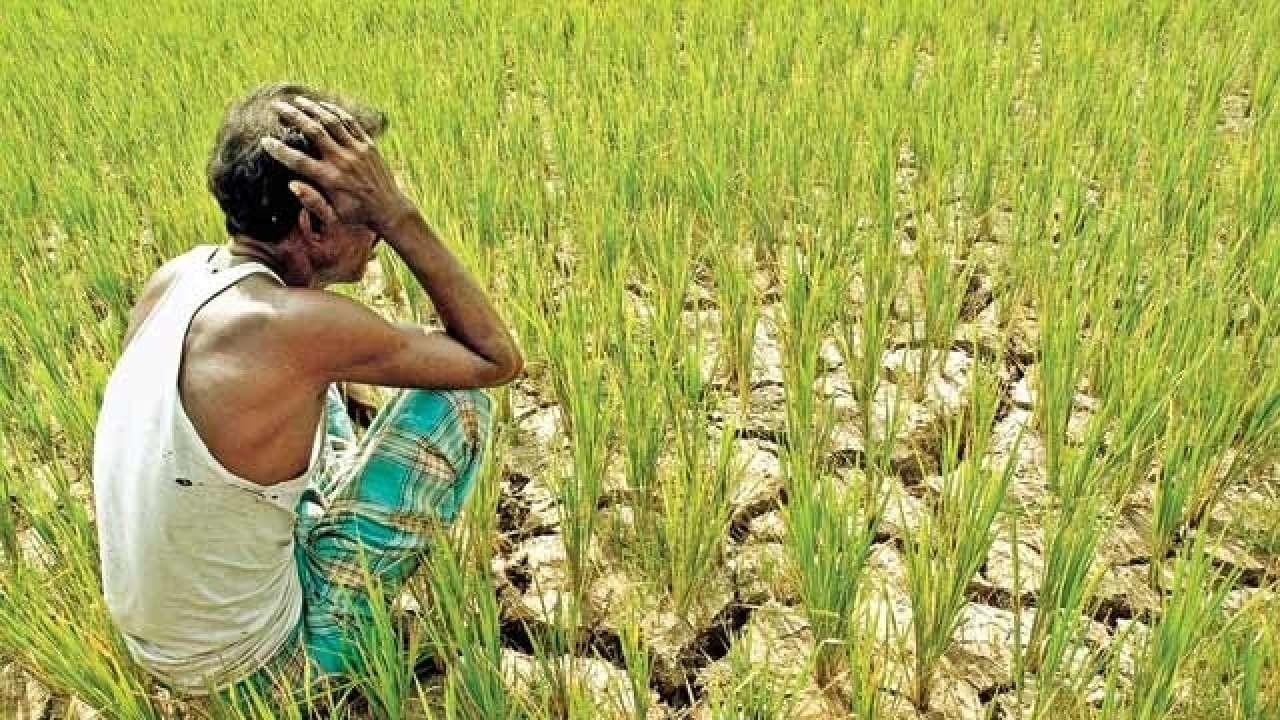human: (56, 68, 606, 720)
